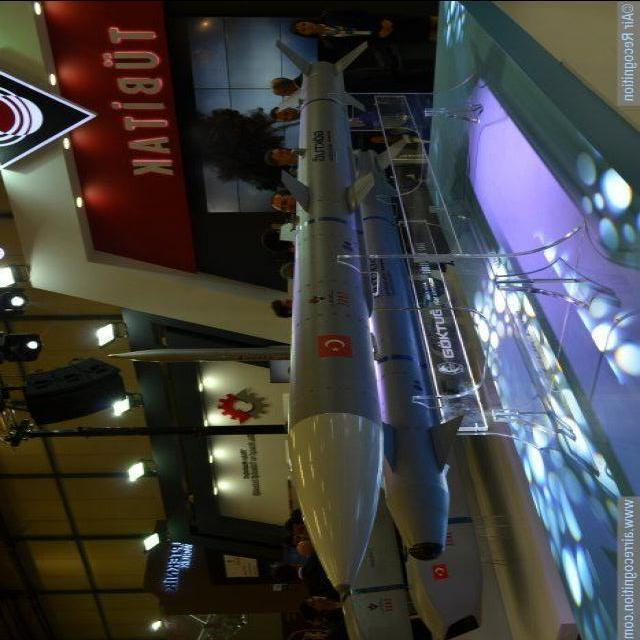missile: (265, 35, 384, 602)
